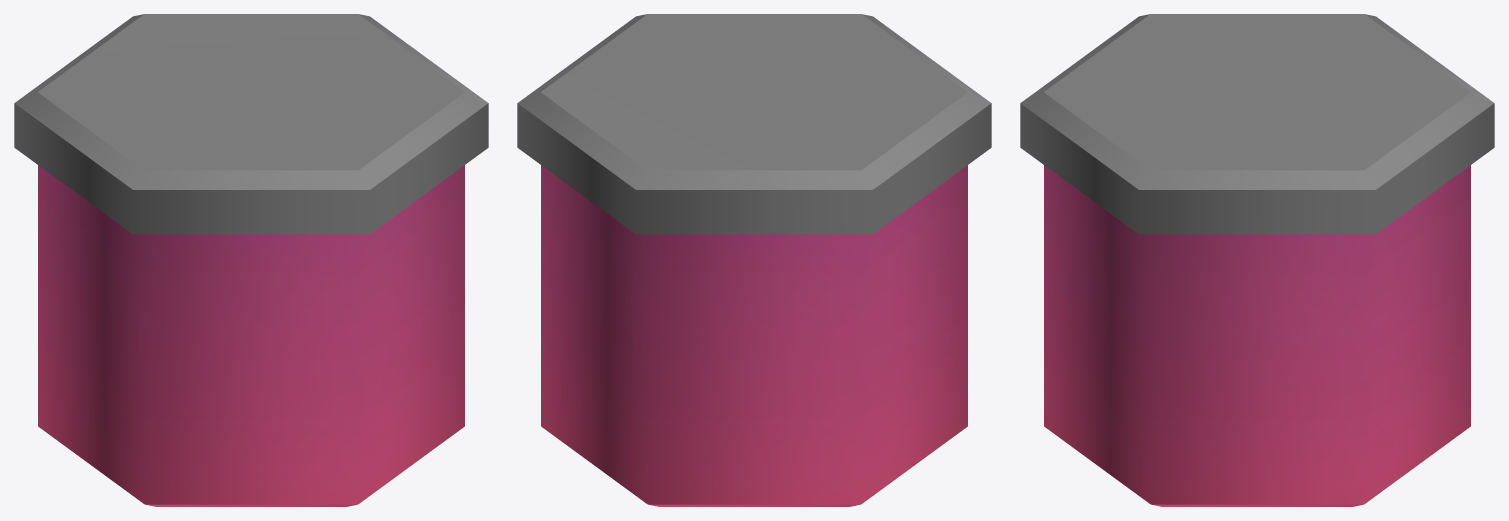
Rendered from Jar_2_J.fbx.
3 views of the same model, side by side, from view 1: azimuth 30°, elevation 25°; view 2: azimuth 150°, elevation 25°; view 3: azimuth 270°, elevation 25° (orthographic).
Visible parts, largest first — view 1: Jar_2_J; view 2: Jar_2_J; view 3: Jar_2_J.
Part boxes in pixels (x1,y1,x2,y2): Jar_2_J: (14,14,488,506); Jar_2_J: (517,14,991,506); Jar_2_J: (1020,14,1494,506).
Bounding box in the file's own units: 17.99 × 16.69 × 20.77.
